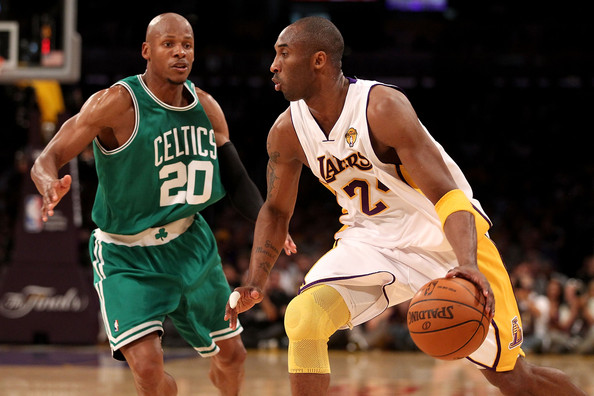Basketball: (403, 276, 492, 363)
